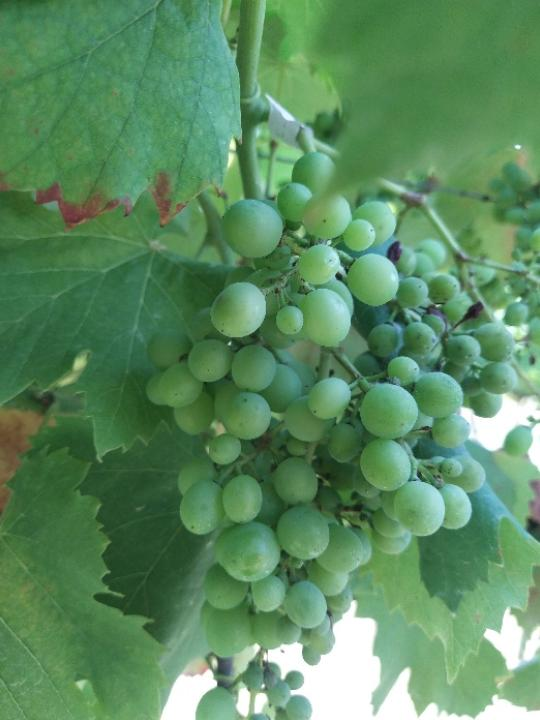grape: (145, 150, 521, 671)
